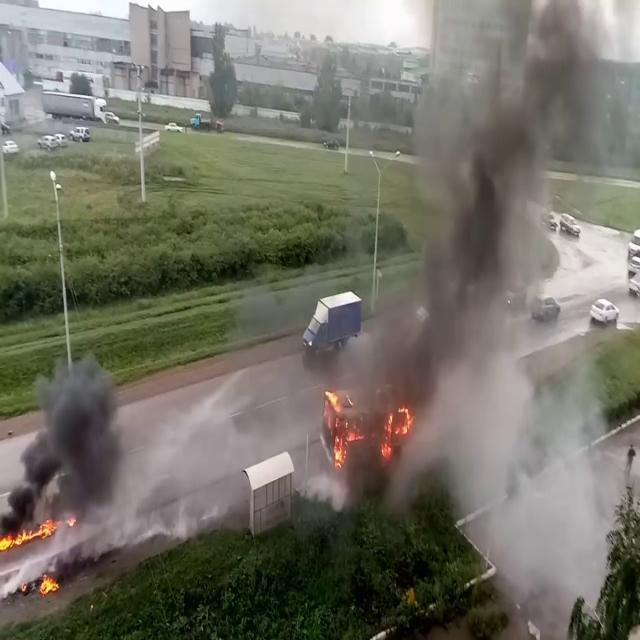Fire: (320, 386, 358, 468), (0, 516, 61, 554), (380, 398, 416, 459), (36, 571, 62, 596)
Smoke: (372, 0, 636, 591), (1, 336, 288, 538)
